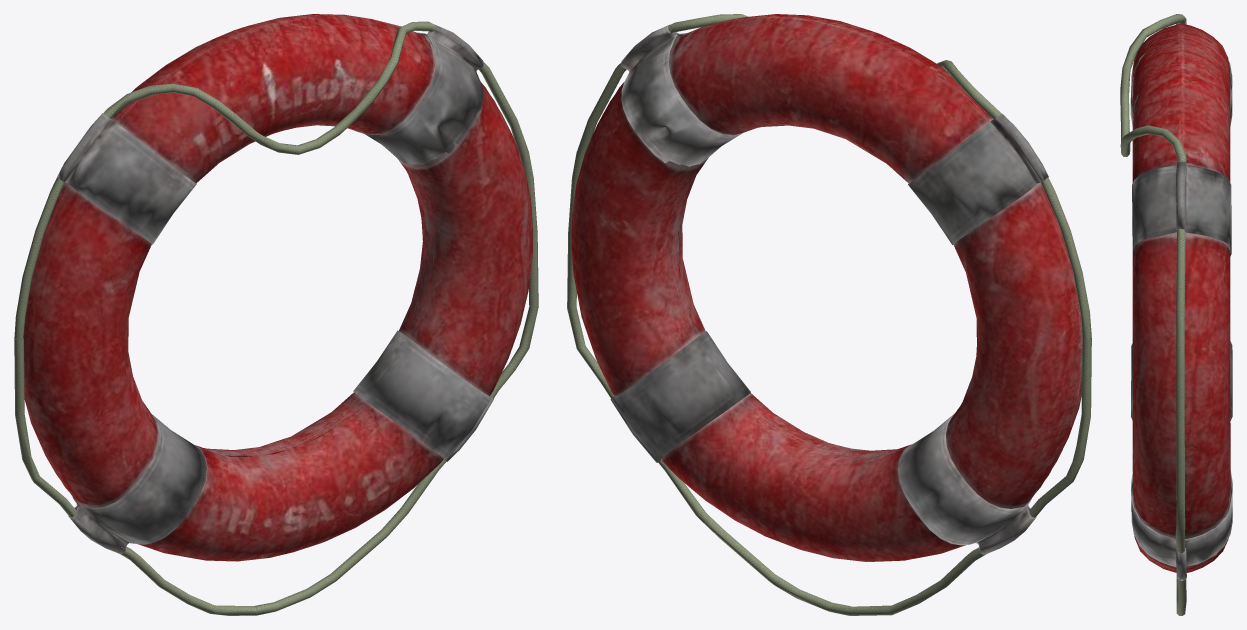
The model's file is lifebuoy.glb.
The picture shows the model from 3 angles, left to right: view 1: azimuth 30°, elevation 25°; view 2: azimuth 150°, elevation 25°; view 3: azimuth 270°, elevation 25°; orthographic projection. The views are drawn at different scales.
Parts seen in each view (by area): view 1: lifebuoy; view 2: lifebuoy; view 3: lifebuoy.
Part boxes in pixels (left/top/right/bottom): lifebuoy: left=14, top=14, right=538, bottom=615; lifebuoy: left=567, top=14, right=1091, bottom=615; lifebuoy: left=1120, top=14, right=1232, bottom=615.
Bounding box in the file's own units: 0.783 × 0.8412 × 0.155.
1 material, 1 textured.
